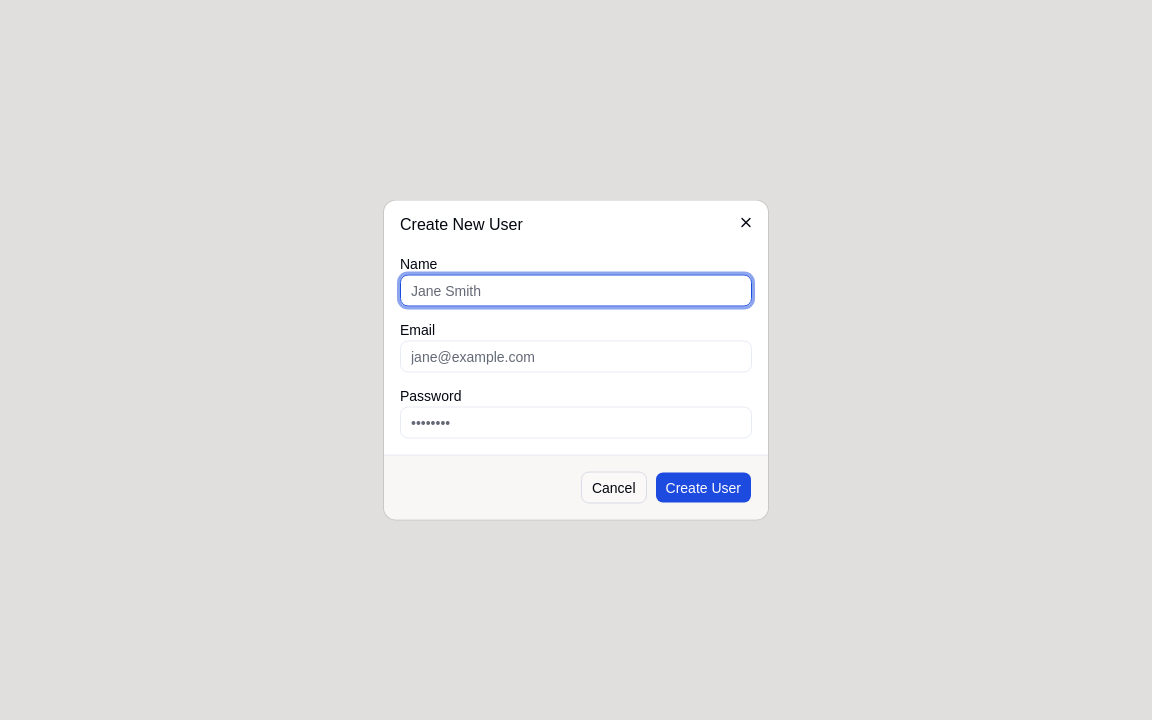
UserFormDialog (create) — validation › shows name error when name is too short
The image size is (1152, 720).
Type "AB" into the field labelled "Name" at (576, 290), box [400, 274, 752, 306]
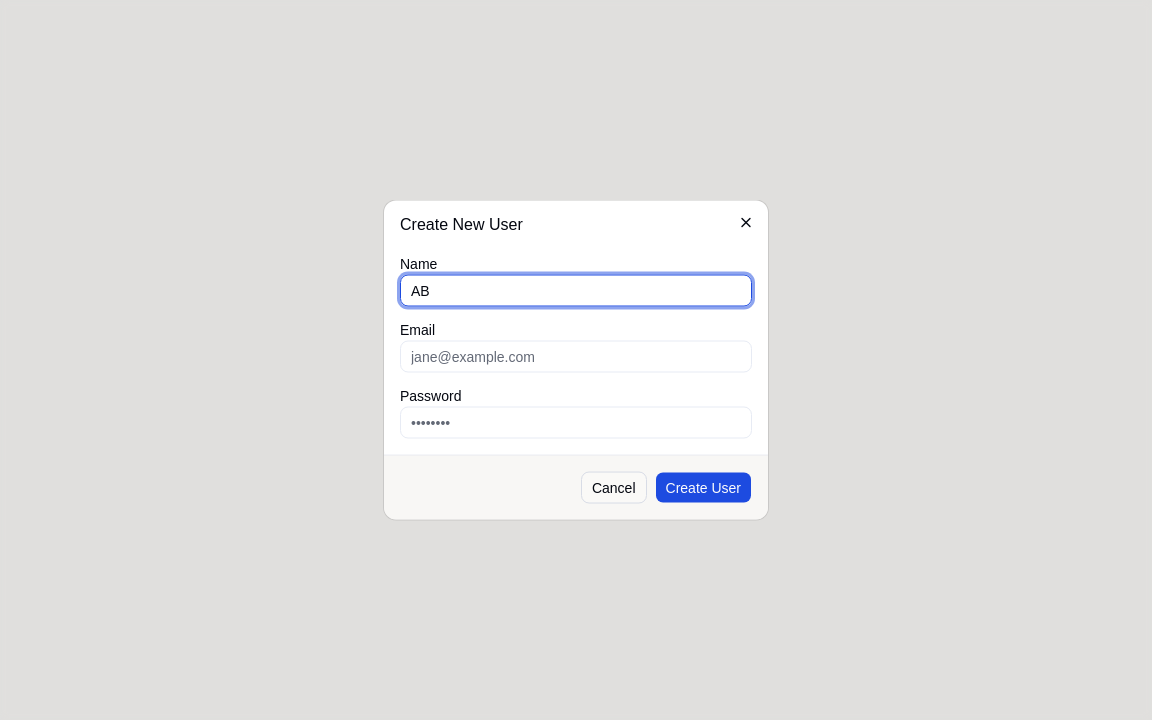
Click the button "Create User" at (703, 488), box [654, 472, 752, 504]
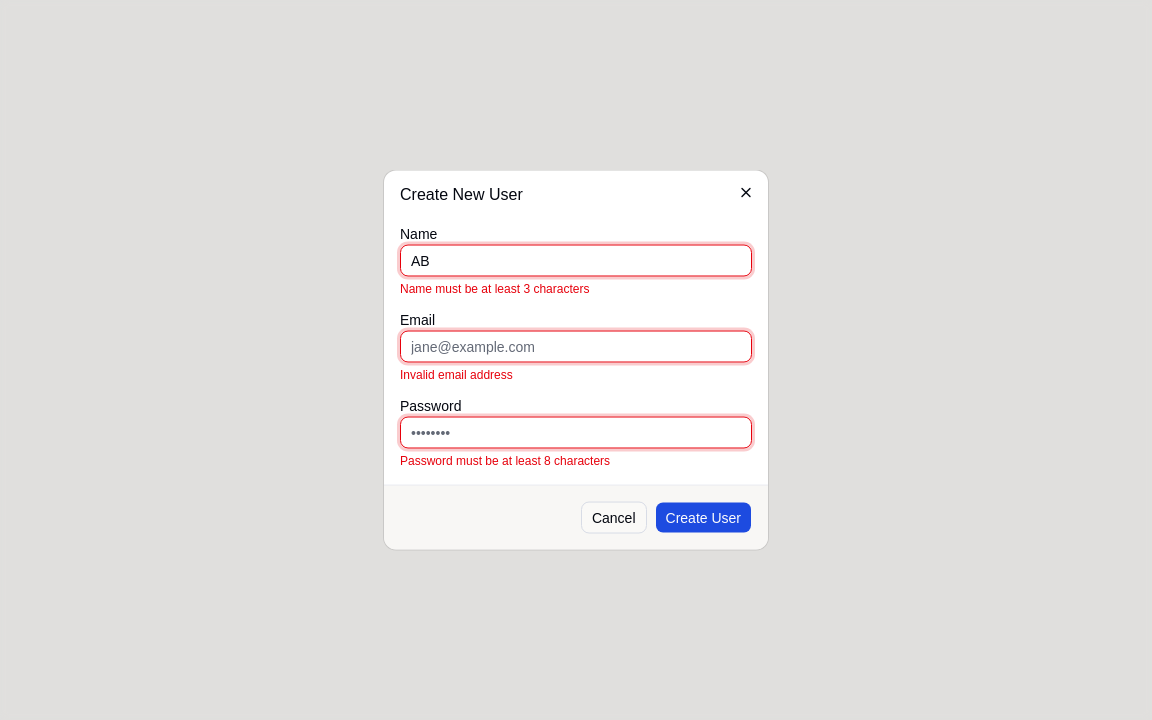
Expected: the text "Name must be at least 3 characters" is shown, [400, 282, 589, 296]
